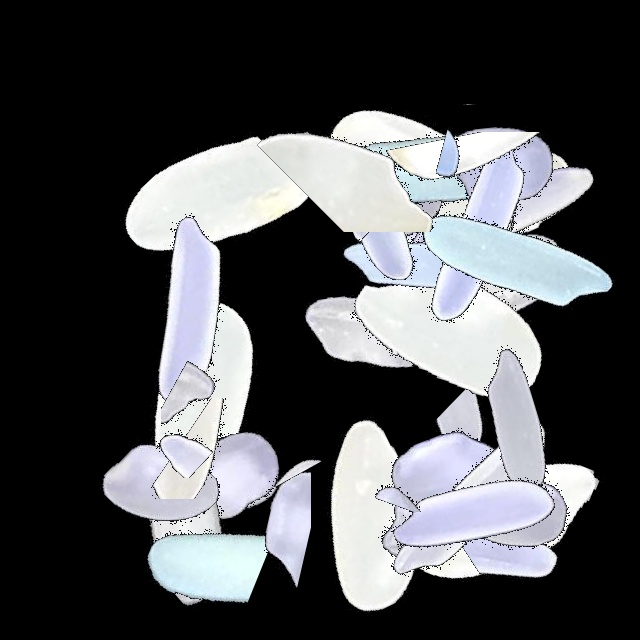Broken: (126, 380, 299, 630), (288, 162, 538, 308), (248, 88, 498, 232), (71, 474, 321, 613), (298, 431, 548, 569), (357, 59, 494, 309), (179, 390, 311, 640), (370, 383, 620, 496), (362, 132, 612, 245), (453, 390, 565, 640), (113, 398, 363, 499), (161, 296, 256, 546), (438, 262, 532, 512), (127, 402, 377, 493), (295, 80, 545, 168), (300, 193, 550, 280), (299, 426, 549, 512), (360, 104, 610, 184), (343, 123, 593, 202), (335, 104, 585, 179), (287, 132, 537, 207), (47, 403, 297, 478)
Full: (97, 71, 347, 321), (372, 390, 622, 640), (69, 266, 319, 516), (344, 60, 594, 310), (339, 97, 589, 347), (243, 390, 493, 640), (90, 353, 340, 603), (101, 353, 351, 603), (334, 94, 584, 344), (324, 390, 574, 640), (372, 93, 622, 343), (295, 54, 545, 304), (359, 105, 609, 355), (378, 154, 628, 404), (57, 184, 307, 434), (245, 205, 495, 455), (324, 343, 574, 593), (326, 202, 576, 452), (390, 390, 640, 640), (296, 47, 546, 297), (37, 362, 287, 612), (287, 136, 537, 386), (348, 377, 598, 627), (374, 38, 624, 288), (357, 103, 607, 353), (390, 294, 640, 544), (390, 132, 640, 382), (346, 390, 596, 640)
